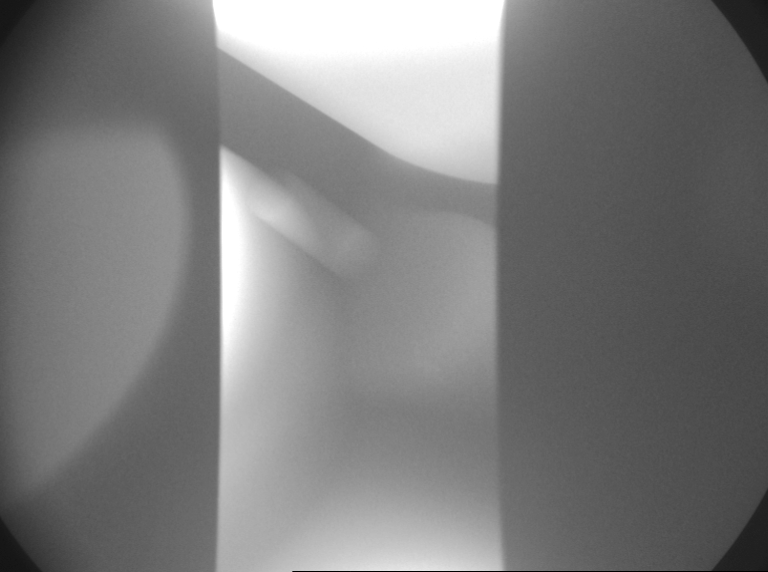defect: (409, 340, 451, 381)
